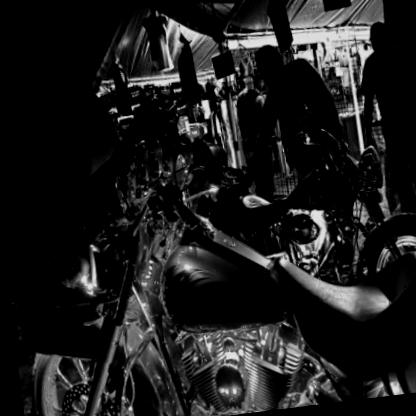motorcycle: (0, 36, 415, 415), (216, 90, 415, 297)
